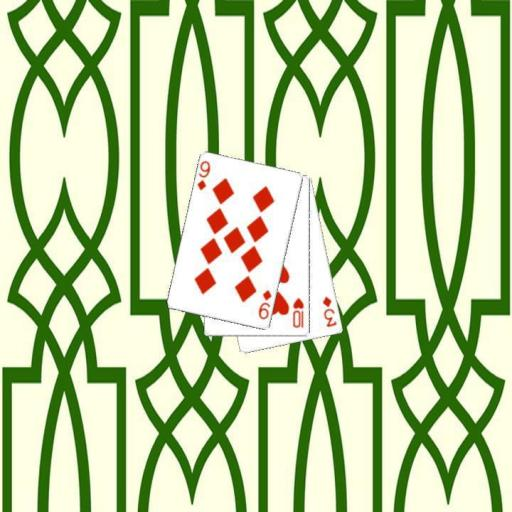card-corner: (320, 293, 338, 329), (255, 286, 273, 322), (194, 158, 212, 192), (290, 295, 306, 329)
